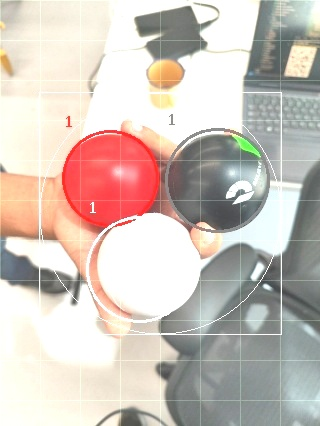Pelota blanca: (84, 212, 201, 325), (145, 57, 185, 91)
Pelota negra: (164, 124, 273, 232), (92, 406, 165, 425)
Pelota roja: (60, 129, 161, 227)
